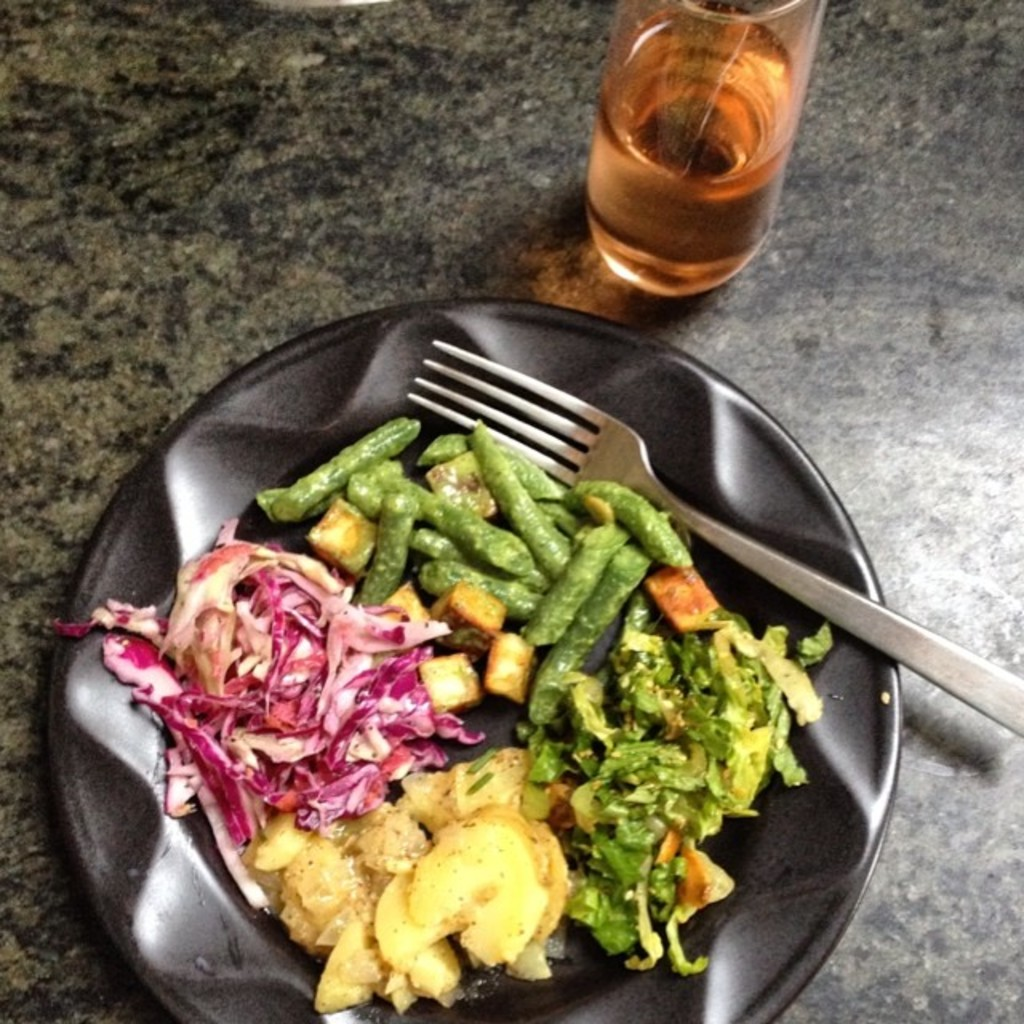salad: (80, 411, 859, 1016)
